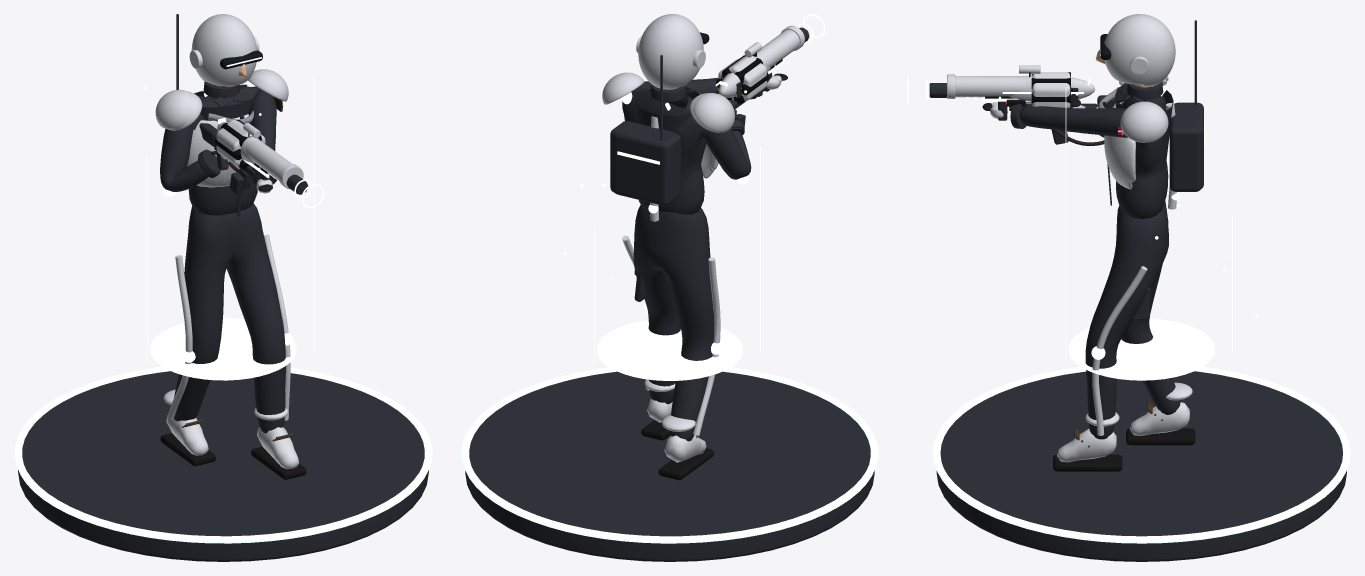
File: kaster_krom.glb
3 renders of one model, left to right at view 1: azimuth 30°, elevation 25°; view 2: azimuth 150°, elevation 25°; view 3: azimuth 270°, elevation 25°, orthographic.
Visible parts, largest first — view 1: fod_net, menneske_net, op4.001_net, hoved_net, vaaben_net, op4_net, op2.001_net, op3.001_net, op3_net; view 2: fod_net, menneske_net, op4_net, op4.001_net, hoved_net, vaaben_net, op3.001_net, op2.001_net, ned4_net; view 3: fod_net, menneske_net, op4.001_net, hoved_net, vaaben_net, op2.001_net, ned4_net, op4_net, op2_net.
Boxes of the visible parts, x1,y1,x2,y2 form: fod_net: [14, 366, 432, 561]; menneske_net: [160, 81, 306, 479]; op4.001_net: [143, 76, 314, 380]; hoved_net: [189, 14, 262, 86]; vaaben_net: [199, 120, 303, 189]; op4_net: [162, 93, 292, 420]; op2.001_net: [185, 69, 293, 438]; op3.001_net: [155, 14, 191, 129]; op3_net: [218, 118, 307, 194]; fod_net: [461, 367, 878, 561]; menneske_net: [622, 73, 787, 480]; op4_net: [613, 92, 749, 435]; op4.001_net: [563, 90, 760, 380]; hoved_net: [636, 14, 709, 89]; vaaben_net: [716, 25, 804, 109]; op3.001_net: [660, 55, 734, 140]; op2.001_net: [602, 72, 718, 178]; ned4_net: [610, 121, 675, 192]; fod_net: [932, 366, 1350, 561]; menneske_net: [982, 82, 1195, 471]; op4.001_net: [1065, 87, 1258, 380]; hoved_net: [1095, 14, 1175, 86]; vaaben_net: [947, 65, 1115, 120]; op2.001_net: [1074, 87, 1168, 437]; ned4_net: [1169, 104, 1201, 191]; op4_net: [1091, 102, 1205, 435]; op2_net: [1002, 72, 1094, 106].
Size of the model in its own units: 1.94 by 2.35 by 2.05.
